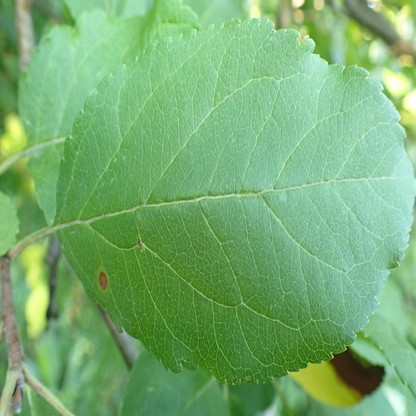frogeye_leaf_spot: (98, 270, 108, 289)
